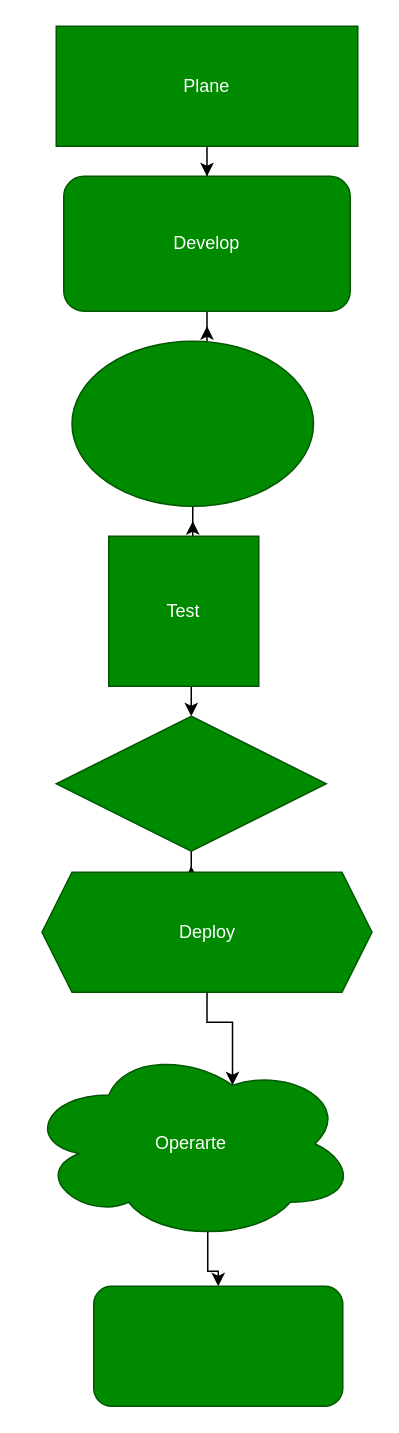
The diagram is 399 pixels wide and 1433 high, and some of its shapes have lost their labels. Each missing label, with the box of its shape:
Build: (70, 340, 314, 506)
Monitor: (92, 1285, 343, 1406)
Release: (55, 715, 326, 851)
